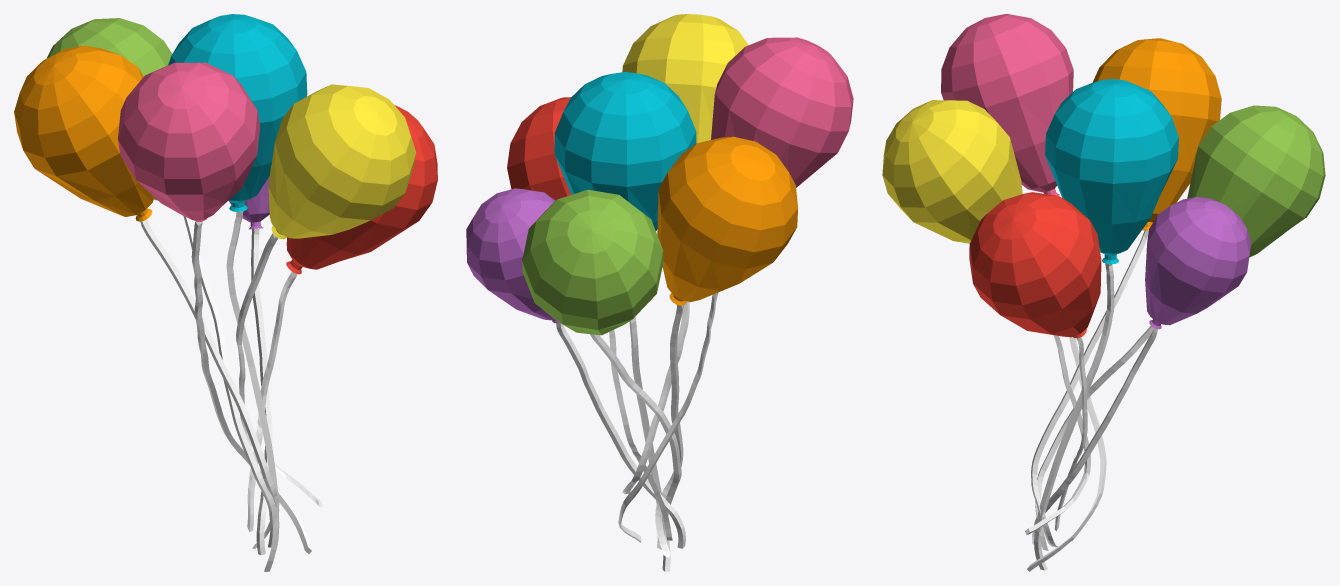
The model's file is Balloons.glb.
3 renders of one model, left to right at view 1: azimuth 30°, elevation 25°; view 2: azimuth 150°, elevation 25°; view 3: azimuth 270°, elevation 25°, orthographic. The views are drawn at different scales.
Parts seen in each view (by area): view 1: Node; view 2: Node; view 3: Node.
Part boxes in pixels (left/top/right/bottom): Node: left=14, top=14, right=437, bottom=571; Node: left=466, top=14, right=853, bottom=571; Node: left=882, top=14, right=1325, bottom=571.
Bounding box in the file's own units: 1.46 × 2.22 × 1.77.
